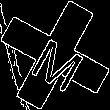M_NE: (23, 21, 87, 89)
